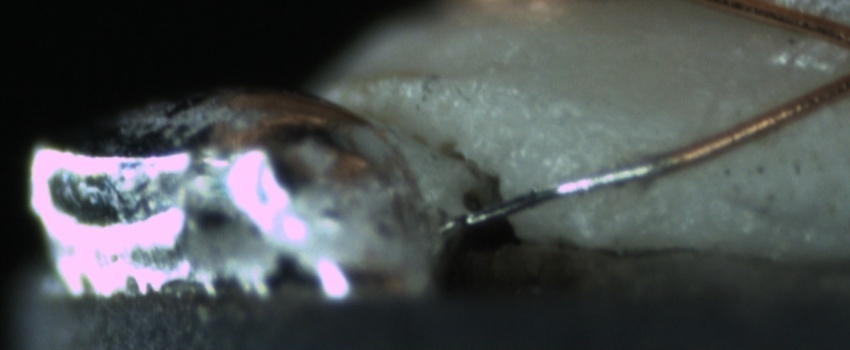TS: (446, 159, 658, 227)
TTCW: (444, 142, 700, 227)
